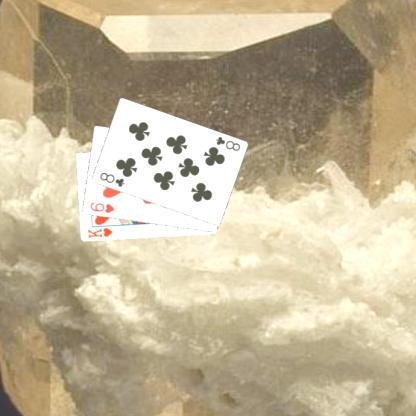6H: (87, 200, 116, 214)
8C: (96, 170, 126, 188), (212, 134, 241, 152)
KH: (85, 225, 114, 240)
